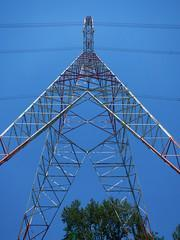power_tower: (0, 11, 180, 235)
